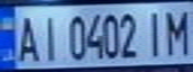0: (63, 10, 87, 61), (103, 9, 121, 60)
2: (118, 8, 142, 60)
4: (84, 10, 106, 61)
A: (12, 10, 42, 63)
I: (36, 10, 63, 62), (142, 7, 169, 58)
M: (160, 6, 193, 56)
